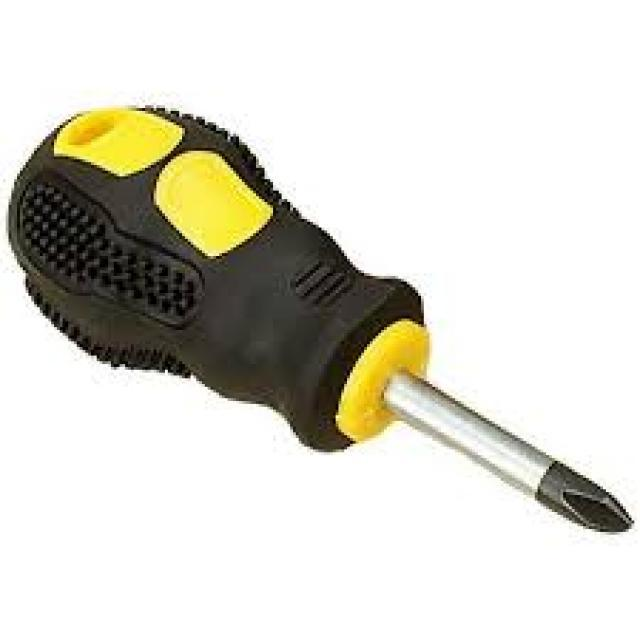screwdriver: (2, 104, 634, 545)
